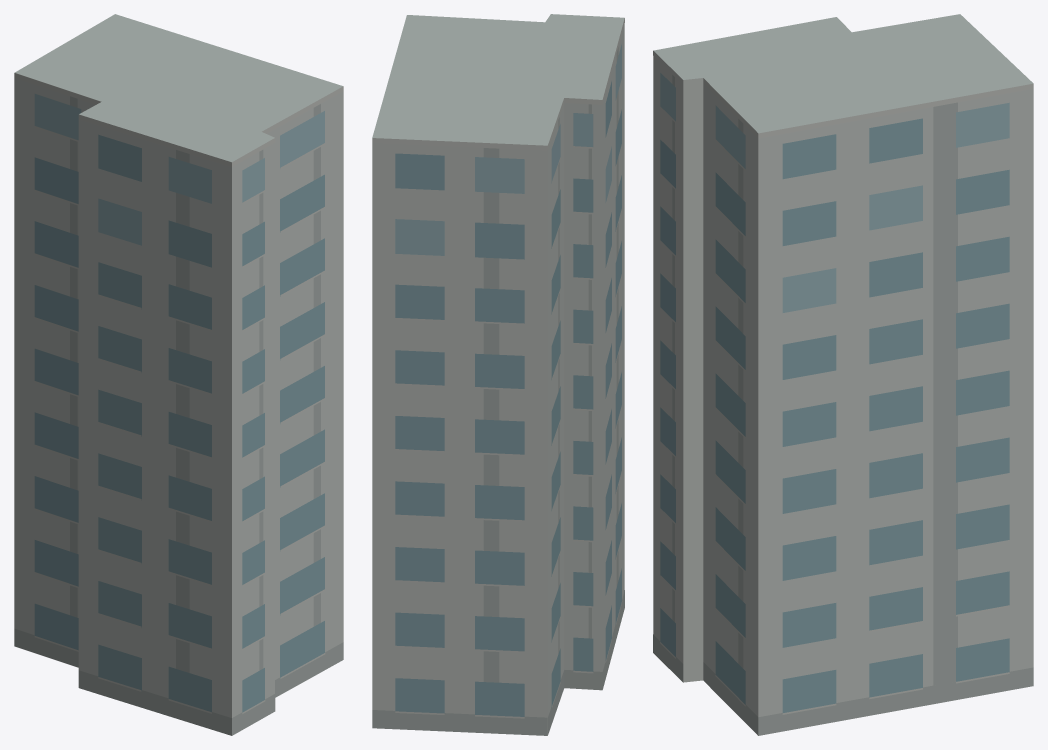
Rendered from survey-upis-32474885.glb.
3 views of the same model, side by side, from view 1: azimuth 30°, elevation 25°; view 2: azimuth 150°, elevation 25°; view 3: azimuth 270°, elevation 25° (orthographic). The views are drawn at different scales.
Parts seen in each view (by area): view 1: survey-upis-32474885.tmp; view 2: survey-upis-32474885.tmp; view 3: survey-upis-32474885.tmp.
Boxes of the visible parts, x1,y1,x2,y2 form: survey-upis-32474885.tmp: (14, 14, 343, 735); survey-upis-32474885.tmp: (372, 14, 624, 735); survey-upis-32474885.tmp: (653, 14, 1033, 735).
Size of the model in its own units: 12.04 by 28.3 by 16.21.
